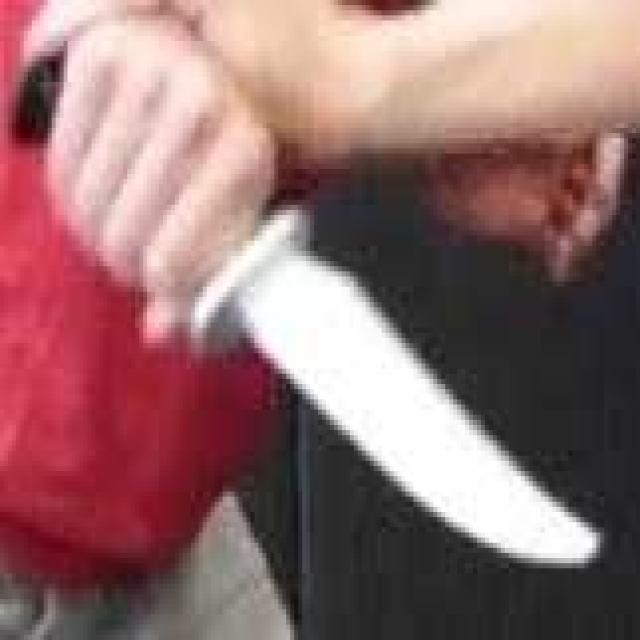weapon: (32, 56, 640, 630)
